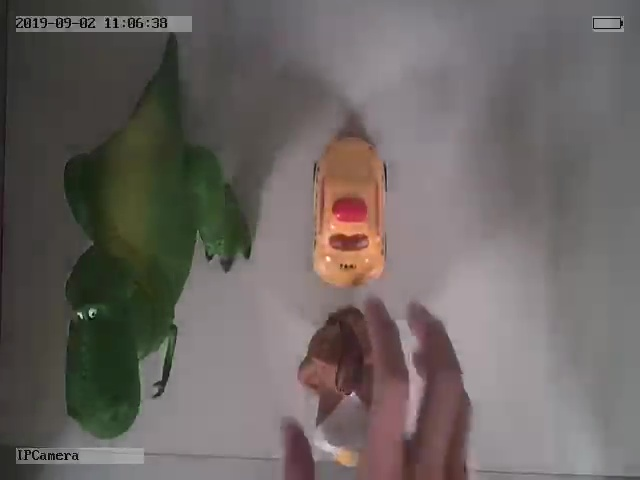car: (309, 132, 390, 289)
rex: (64, 58, 252, 438)
